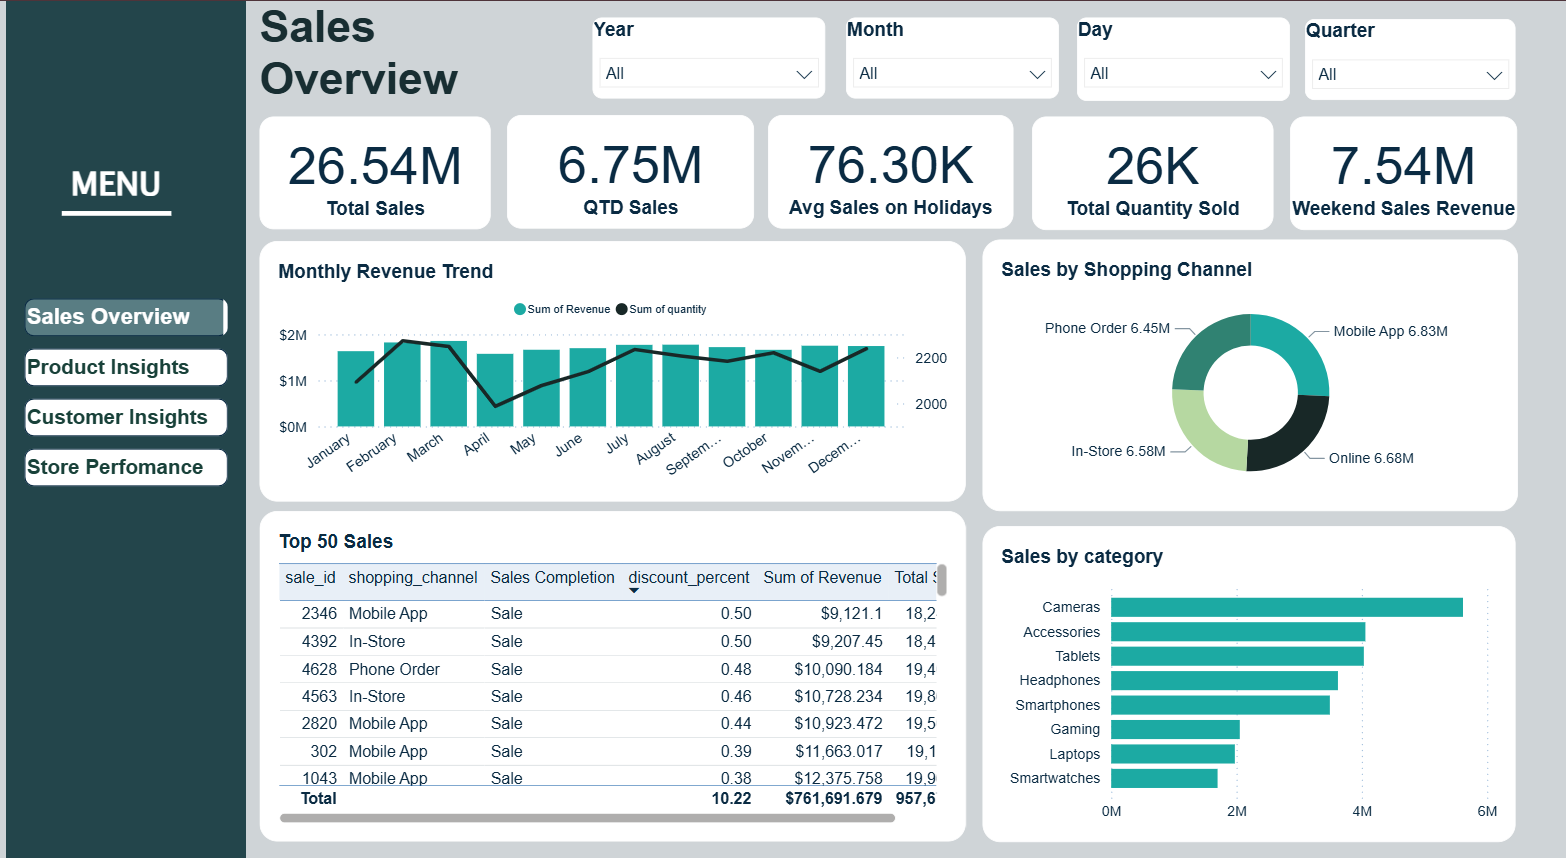

Layout of this report page (visuals, bound fields, positions):
{"tool":"powerbi","page":{"name":"Sales Overview","canvas":[1280,720],"ordinal":0},"visuals":[{"type":"textbox","box":[0,0,201.3,720.5],"z":0,"group":"g1"},{"type":"lineClusteredColumnComboChart","title":"Monthly Revenue Trend","fields":{"Category":["Date.month"],"Y":["Sum(Sales.Revenue)"],"Y2":["Sum(Sales.quantity)"]},"box":[212.8,201.3,592.5,218.6],"z":0},{"type":"group","id":"g1","title":"Group 1","box":[0,0,201.3,720.5],"z":9,"group":"g2"},{"type":"shape","box":[31.6,139.8,122.2,76.4],"z":17,"group":"g2"},{"type":"donutChart","title":"Sales by Shopping Channel","fields":{"Category":["Sales.shopping_channel"],"Y":["Customer.Total Sales"]},"box":[820.1,200.8,449.2,228],"z":1000},{"type":"barChart","title":"Sales by category","fields":{"Category":["Product.category"],"Y":["Customer.Total Sales"]},"box":[820.1,440.7,447.5,265.4],"z":2000},{"type":"card","fields":{"Values":["Customer.Avg Sales on Holidays"]},"box":[639.7,95.3,205.9,95.3],"z":3000},{"type":"card","fields":{"Values":["Customer.QTD Sales"]},"box":[420.2,95.3,207.6,95.3],"z":4000},{"type":"card","fields":{"Values":["Customer.Total Sales"]},"box":[212.8,96.4,194.1,94.9],"z":5000},{"type":"card","fields":{"Values":["Customer.Weekend Sales Revenue"]},"box":[1077,97,190.6,95.3],"z":6000},{"type":"slicer","title":"Year","fields":{"Values":["Date.year"]},"box":[491.7,13.6,195.7,68.1],"z":7000},{"type":"slicer","title":"Month","fields":{"Values":["Date.month"]},"box":[704.4,13.6,178.6,68.1],"z":8000},{"type":"slicer","title":"Quarter","fields":{"Values":["Date.quarter"]},"box":[1090.6,15.3,176.9,68.1],"z":9000},{"type":"slicer","title":"Day","fields":{"Values":["Date.day_of_week"]},"box":[898.3,13.6,178.6,69.8],"z":10000},{"type":"card","fields":{"Values":["Customer.Total Quantity Sold"]},"box":[860.9,97,202.5,95.3],"z":11000},{"type":"pageNavigator","box":[0,233.8,201.3,189.2],"z":11000,"group":"g1"},{"type":"textbox","box":[18.7,133.9,146.7,55.3],"z":12000,"group":"g1"},{"type":"tableEx","title":"Top 50 Sales","fields":{"Values":["Sales.sale_id","Sales.shopping_channel","Sales.Sales Completion","Sum(Sales.discount_percent)","Sum(Sales.Revenue)","Customer.Total Sales"]},"box":[212.8,428.6,592.5,277.6],"z":12000},{"type":"textbox","box":[212.8,0,254.5,94.9],"z":13000},{"type":"group","id":"g2","title":"Group 2","box":[0,0,201.3,720.5],"z":14000}]}

Visuals, with their boxes in screenshot pixels (x1, y1, x2, y2), scaled from the page's 1280x720 canvas onto the 1566x858 screenshot:
textbox: 0,0,246,857
"Monthly Revenue Trend" lineClusteredColumnComboChart: 260,240,985,500
"Group 1" group: 0,0,246,857
shape: 39,167,188,258
"Sales by Shopping Channel" donutChart: 1003,239,1553,511
"Sales by category" barChart: 1003,525,1551,841
card - Customer.Avg Sales on Holidays: 783,114,1035,227
card - Customer.QTD Sales: 514,114,768,227
card - Customer.Total Sales: 260,115,498,228
card - Customer.Weekend Sales Revenue: 1318,116,1551,229
"Year" slicer: 602,16,841,97
"Month" slicer: 862,16,1080,97
"Quarter" slicer: 1334,18,1551,99
"Day" slicer: 1099,16,1318,99
card - Customer.Total Quantity Sold: 1053,116,1301,229
pageNavigator: 0,279,246,504
textbox: 23,160,202,225
"Top 50 Sales" tableEx: 260,511,985,842
textbox: 260,0,572,113
"Group 2" group: 0,0,246,857
